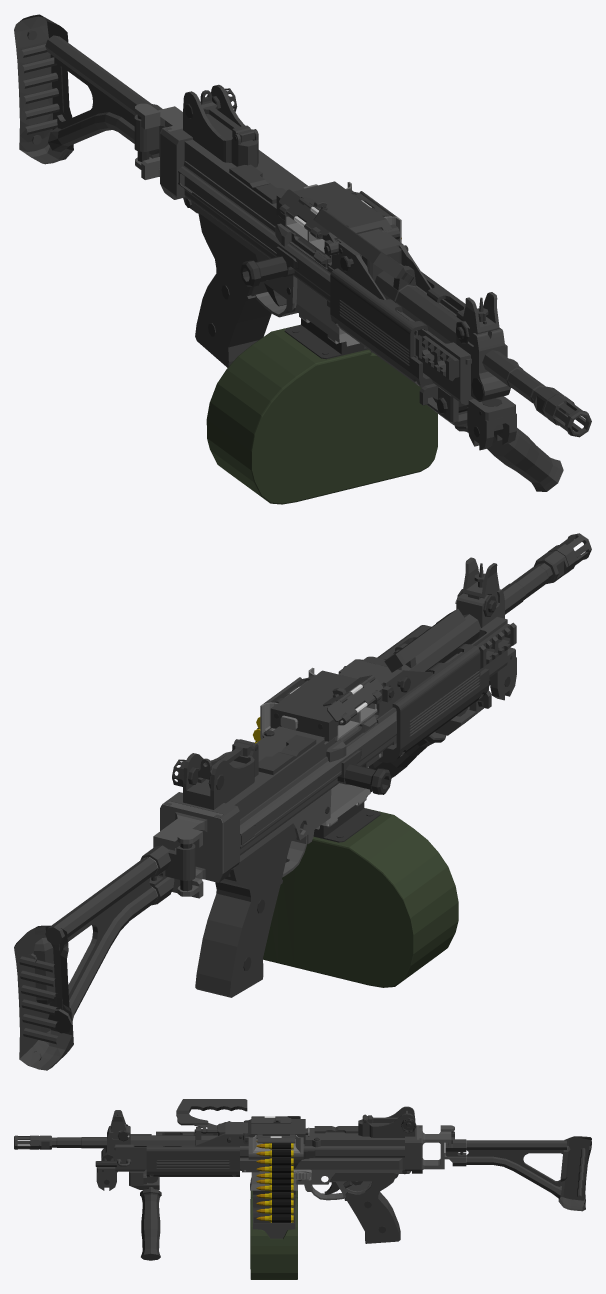
File: iwi_negev_ng-5_old_versionlow-poly.glb
3 renders of one model, top to bottom at view 1: azimuth 30°, elevation 25°; view 2: azimuth 150°, elevation 25°; view 3: azimuth 270°, elevation 25°, orthographic. The views are drawn at different scales.
Parts seen in each view (by area): view 1: Object_6, Object_2, Object_10, Object_11, Object_8, Object_7, Object_9; view 2: Object_6, Object_2, Object_10, Object_11, Object_7, Object_8, Object_9; view 3: Object_6, Object_10, Object_11, Object_2, Object_8, Object_7, Object_3, Object_9, Object_4, Object_5.
Part boxes in pixels (box(x1,y1,x2,y2)): Object_6: box(14, 14, 591, 437); Object_2: box(206, 324, 437, 504); Object_10: box(160, 127, 518, 450); Object_11: box(313, 208, 563, 491); Object_8: box(137, 88, 511, 437); Object_7: box(135, 103, 297, 317); Object_9: box(285, 182, 401, 346); Object_6: box(14, 533, 591, 1070); Object_2: box(263, 808, 458, 987); Object_10: box(163, 557, 516, 881); Object_11: box(366, 609, 489, 797); Object_7: box(153, 789, 331, 898); Object_8: box(151, 589, 512, 970); Object_9: box(144, 667, 381, 901); Object_6: box(14, 1106, 591, 1243); Object_10: box(96, 1110, 421, 1190); Object_11: box(140, 1099, 247, 1260); Object_2: box(250, 1190, 297, 1279); Object_8: box(95, 1113, 463, 1238); Object_7: box(296, 1125, 454, 1200); Object_3: box(272, 1143, 290, 1222); Object_9: box(244, 1127, 466, 1190); Object_4: box(265, 1143, 293, 1222); Object_5: box(256, 1141, 264, 1220).
Size of the model in its own units: 0.2129 by 0.2787 by 0.95.
